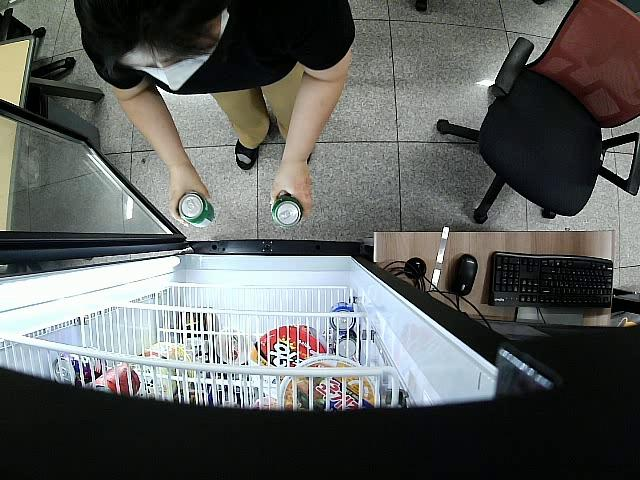00_hand: (165, 168, 210, 227), (271, 167, 313, 220)
12_chilsungCider: (176, 193, 215, 229), (272, 195, 303, 229)
